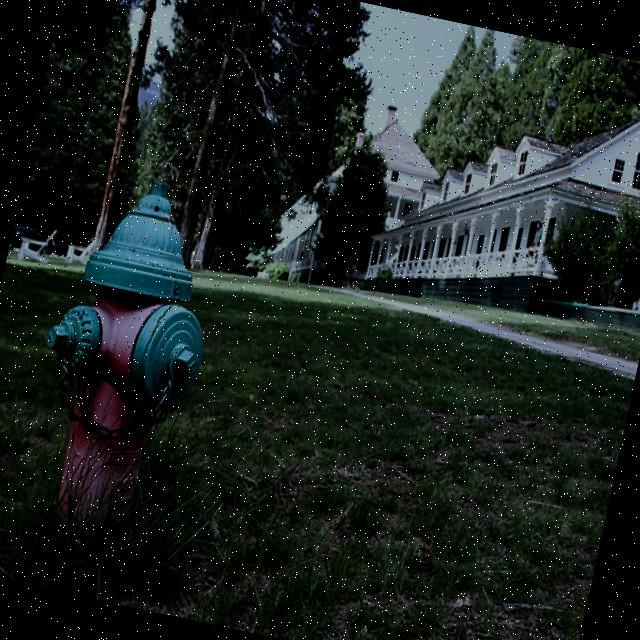fire_hydrant: (14, 164, 235, 536)
